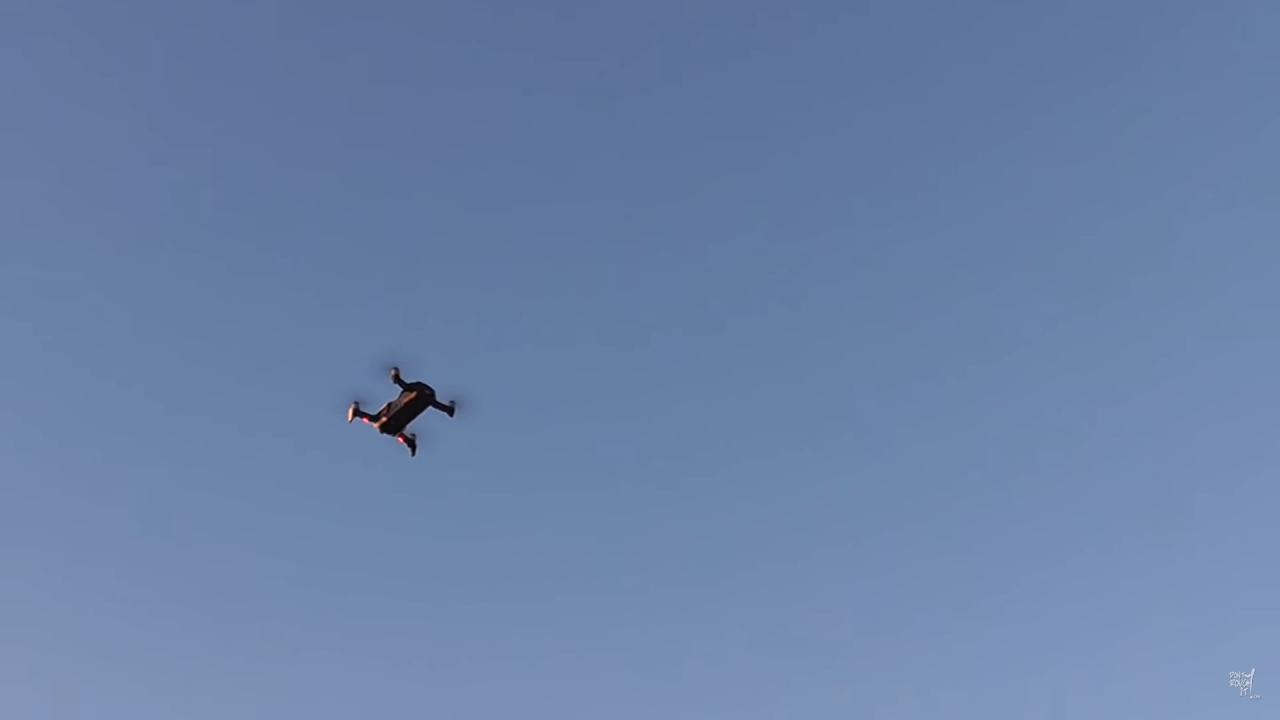Drone: (324, 346, 479, 472)
